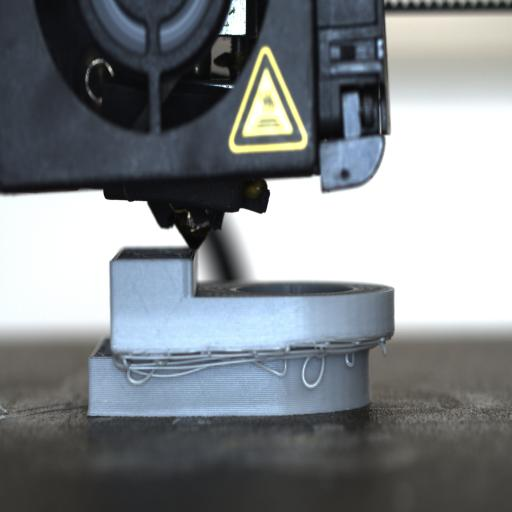layer_shift: (88, 334, 394, 364)
